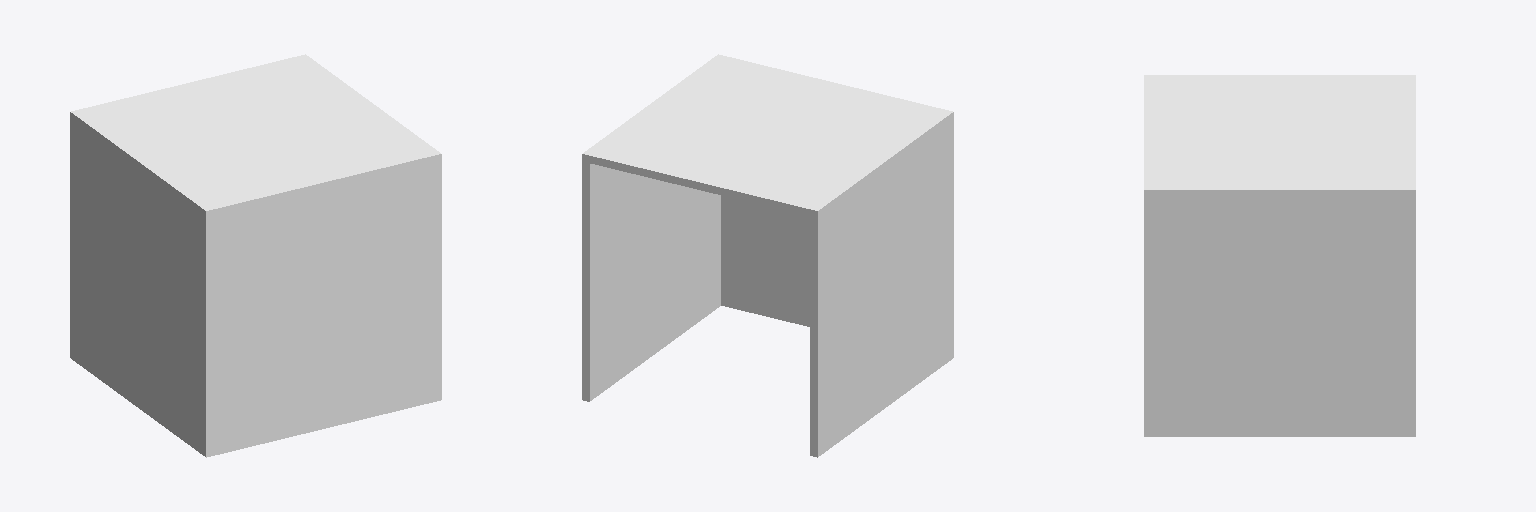
The picture shows the model from 3 angles: view 1: azimuth 30°, elevation 25°; view 2: azimuth 150°, elevation 25°; view 3: azimuth 270°, elevation 25°; orthographic projection.
Visible parts, largest first — view 1: test-40; view 2: test-40; view 3: test-40.
Boxes of the visible parts, x1=… form: test-40: x1=70, y1=54, x2=441, y2=457; test-40: x1=582, y1=54, x2=953, y2=457; test-40: x1=1144, y1=75, x2=1415, y2=436.
Bounding box in the file's own units: 32 × 32 × 32.